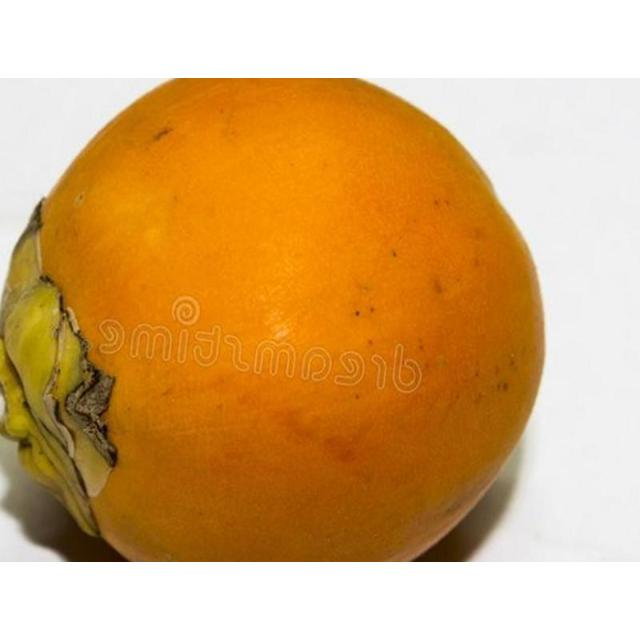good: (0, 78, 547, 561)
